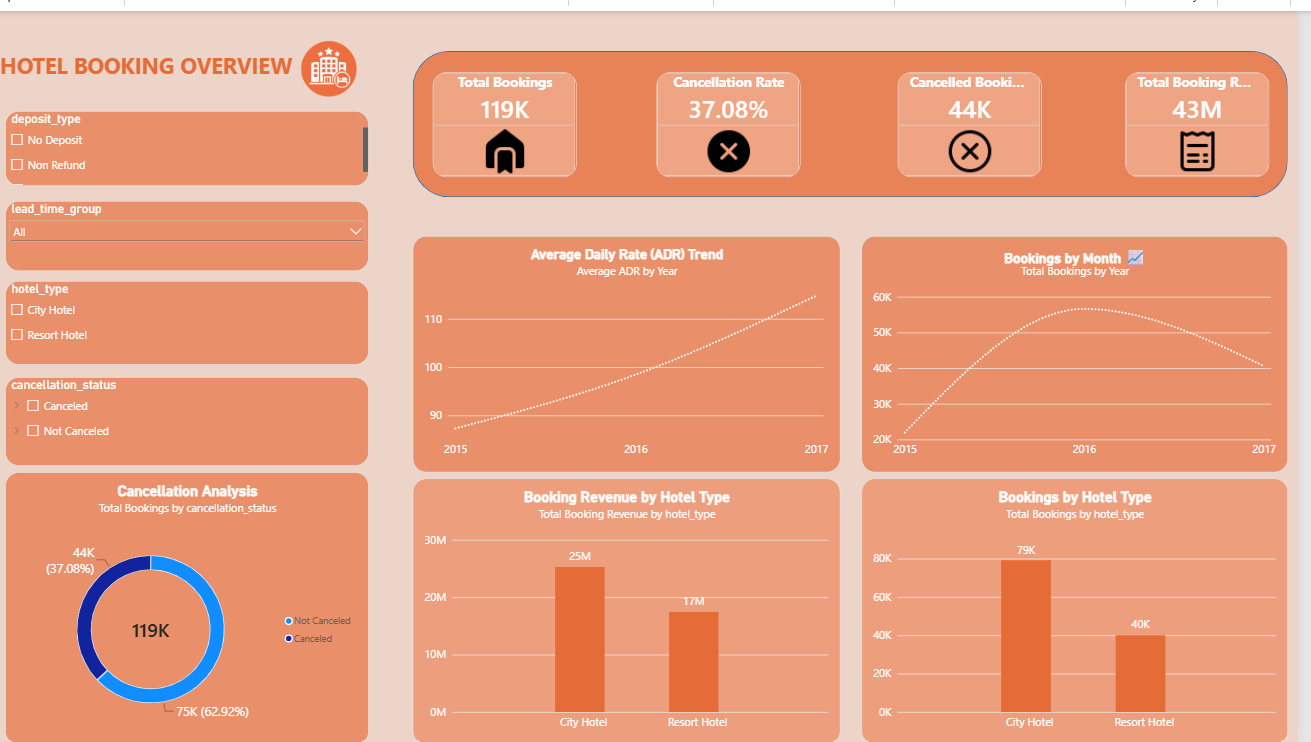

Layout of this report page (visuals, bound fields, positions):
{"tool":"powerbi","page":{"name":" HOTEL BOOKING OVERVIEW   ","canvas":[1920,1080],"ordinal":1},"visuals":[{"type":"shape","box":[616.6,58.9,1288.4,215.3],"z":0},{"type":"cardVisual","fields":{"Data":["Hotel_Bookings_Cleaned.Total Bookings"]},"box":[646,90.2,211.7,154.6],"z":1000},{"type":"cardVisual","fields":{"Data":["Hotel_Bookings_Cleaned.Cancellation Rate"]},"box":[975.5,90.2,211.7,154.6],"z":2000},{"type":"cardVisual","fields":{"Data":["Hotel_Bookings_Cleaned.Cancelled Bookings"]},"box":[1330.7,90.2,211.7,154.6],"z":3000},{"type":"cardVisual","fields":{"Data":["Hotel_Bookings_Cleaned.Total Booking Revenue"]},"box":[1665.7,90.2,211.7,154.6],"z":4000},{"type":"clusteredColumnChart","title":"Bookings by Hotel Type","fields":{"Category":["Hotel_Bookings_Cleaned.hotel_type"],"Y":["Hotel_Bookings_Cleaned.Total Bookings"]},"box":[1277.3,688.3,627.6,392],"z":5000},{"type":"lineChart","title":"Bookings by Month 📈","fields":{"Category":["Hotel_Bookings_Cleaned.arrival_date.Variation.Date Hierarchy.Year","Hotel_Bookings_Cleaned.arrival_date.Variation.Date Hierarchy.Quarter","Hotel_Bookings_Cleaned.arrival_date.Variation.Date Hierarchy.Month","Hotel_Bookings_Cleaned.arrival_date.Variation.Date Hierarchy.Day"],"Y":["Hotel_Bookings_Cleaned.Total Bookings"]},"box":[1277.3,331.3,627.6,347.9],"z":6000},{"type":"donutChart","title":"Cancellation Analysis","fields":{"Category":["Hotel_Bookings_Cleaned.cancellation_status"],"Y":["Hotel_Bookings_Cleaned.Total Bookings"]},"box":[16.6,679.1,535.6,401.2],"z":7000},{"type":"clusteredColumnChart","title":"Booking Revenue by Hotel Type","fields":{"Category":["Hotel_Bookings_Cleaned.hotel_type"],"Y":["Hotel_Bookings_Cleaned.Total Booking Revenue"]},"box":[616.6,688.3,629.5,392],"z":8000},{"type":"lineChart","title":"Average Daily Rate (ADR) Trend","fields":{"Category":["Hotel_Bookings_Cleaned.arrival_date.Variation.Date Hierarchy.Year","Hotel_Bookings_Cleaned.arrival_date.Variation.Date Hierarchy.Quarter","Hotel_Bookings_Cleaned.arrival_date.Variation.Date Hierarchy.Month","Hotel_Bookings_Cleaned.arrival_date.Variation.Date Hierarchy.Day"],"Y":["Hotel_Bookings_Cleaned.Average ADR"]},"box":[616.6,331.3,629.5,347.9],"z":9000},{"type":"slicer","fields":{"Values":["Hotel_Bookings_Cleaned.hotel_type"]},"box":[16.6,397.5,535.6,123.3],"z":10000},{"type":"slicer","fields":{"Values":["Hotel_Bookings_Cleaned.lead_time_group"]},"box":[16.6,279.8,535.6,103.1],"z":11000},{"type":"slicer","fields":{"Values":["Hotel_Bookings_Cleaned.cancellation_status","Hotel_Bookings_Cleaned.hotel_type"]},"box":[16.6,539.3,535.6,130.7],"z":12000},{"type":"slicer","fields":{"Values":["Hotel_Bookings_Cleaned.deposit_type"]},"box":[16.6,147.2,535.6,110.4],"z":13000},{"type":"textbox","box":[0,58.9,473,69.9],"z":14000},{"type":"image","box":[369.9,38.7,246.6,90.2],"z":14001}]}

Visuals, with their boxes in screenshot pixels (x1, y1, x2, y2), scaled from the page's 1920x1080 canvas onto the 1311x742 screenshot:
shape: [x1=421, y1=40, x2=1301, y2=188]
cardVisual - Hotel_Bookings_Cleaned.Total Bookings: [x1=441, y1=62, x2=586, y2=168]
cardVisual - Hotel_Bookings_Cleaned.Cancellation Rate: [x1=666, y1=62, x2=811, y2=168]
cardVisual - Hotel_Bookings_Cleaned.Cancelled Bookings: [x1=909, y1=62, x2=1053, y2=168]
cardVisual - Hotel_Bookings_Cleaned.Total Booking Revenue: [x1=1137, y1=62, x2=1282, y2=168]
"Bookings by Hotel Type" clusteredColumnChart: [x1=872, y1=473, x2=1301, y2=741]
"Bookings by Month 📈" lineChart: [x1=872, y1=228, x2=1301, y2=467]
"Cancellation Analysis" donutChart: [x1=11, y1=467, x2=377, y2=741]
"Booking Revenue by Hotel Type" clusteredColumnChart: [x1=421, y1=473, x2=851, y2=741]
"Average Daily Rate (ADR) Trend" lineChart: [x1=421, y1=228, x2=851, y2=467]
slicer - Hotel_Bookings_Cleaned.hotel_type: [x1=11, y1=273, x2=377, y2=358]
slicer - Hotel_Bookings_Cleaned.lead_time_group: [x1=11, y1=192, x2=377, y2=263]
slicer - Hotel_Bookings_Cleaned.cancellation_status x Hotel_Bookings_Cleaned.hotel_type: [x1=11, y1=371, x2=377, y2=460]
slicer - Hotel_Bookings_Cleaned.deposit_type: [x1=11, y1=101, x2=377, y2=177]
textbox: [x1=0, y1=40, x2=323, y2=88]
image: [x1=253, y1=27, x2=421, y2=89]
